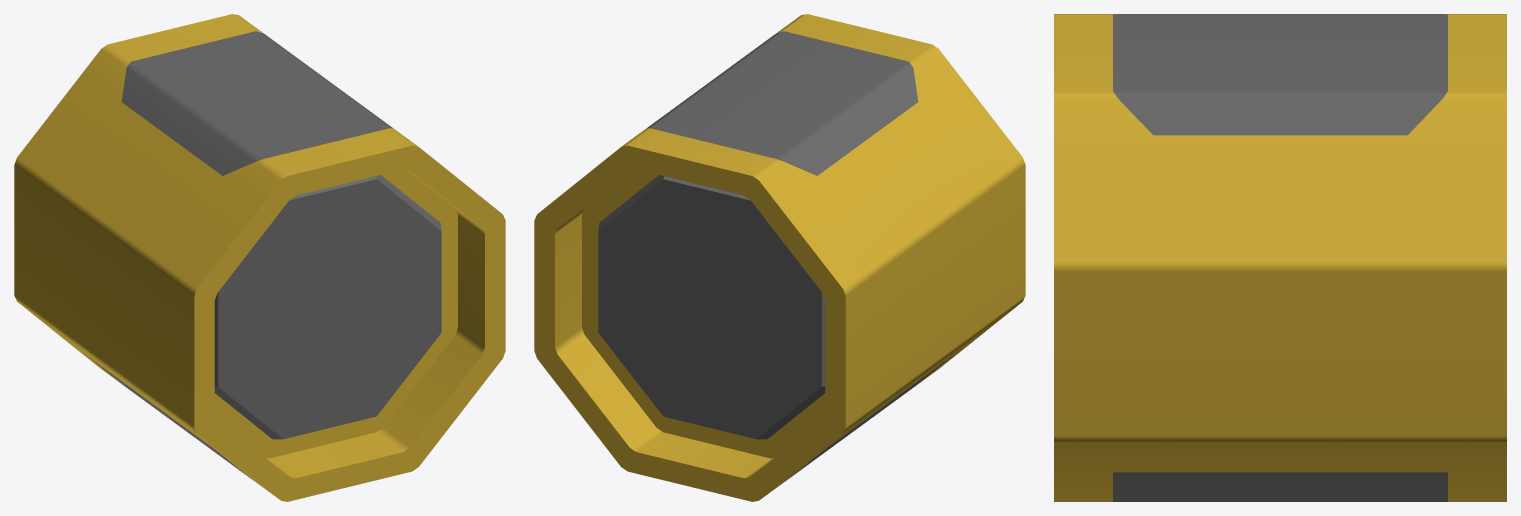
The model's file is Lowpoly_FuselageSegment.fbx.
3 renders of one model, left to right at view 1: azimuth 30°, elevation 25°; view 2: azimuth 150°, elevation 25°; view 3: azimuth 270°, elevation 25°, orthographic. The views are drawn at different scales.
Parts seen in each view (by area): view 1: FuselageSegment; view 2: FuselageSegment; view 3: FuselageSegment.
Part boxes in pixels (x1,y1,x2,y2): FuselageSegment: (14, 14, 505, 501); FuselageSegment: (534, 14, 1025, 501); FuselageSegment: (1054, 14, 1506, 501).
Bounding box in the file's own units: 200 × 200 × 200.
